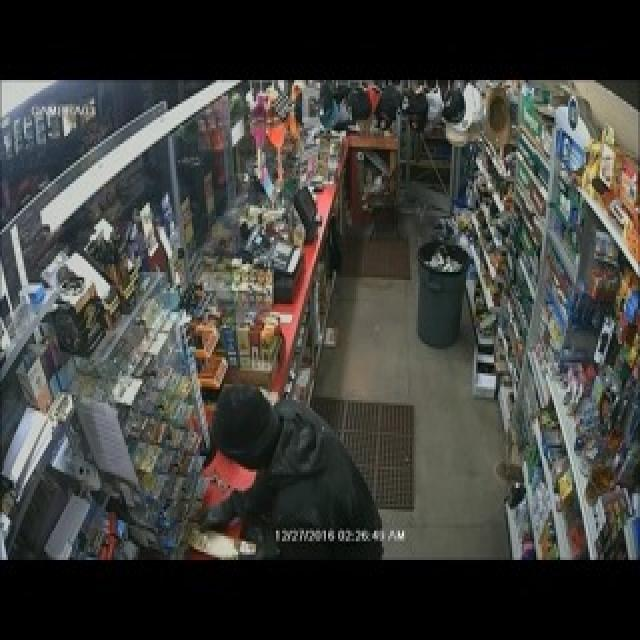thief: (193, 378, 383, 551)
